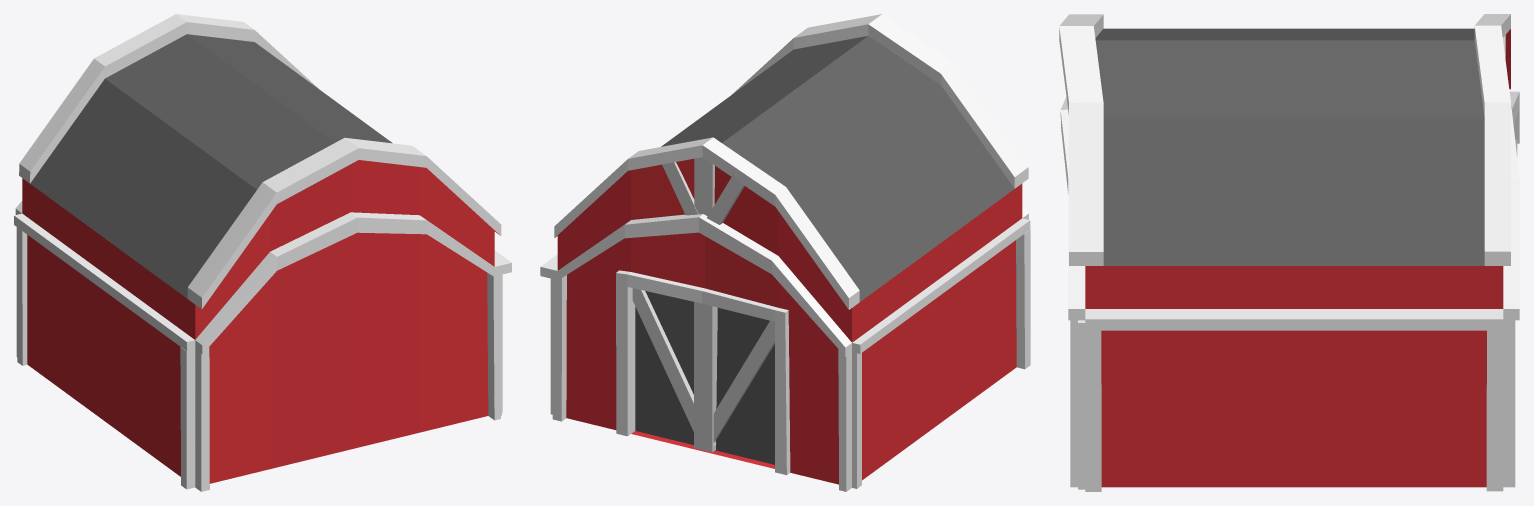
File: boerderij.fbx
The picture shows the model from 3 angles, left to right: view 1: azimuth 30°, elevation 25°; view 2: azimuth 150°, elevation 25°; view 3: azimuth 270°, elevation 25°; orthographic projection. The views are drawn at different scales.
Parts seen in each view (by area): view 1: Plane.002, Plane.006, Plane.001, Plane.003, Plane.004; view 2: Plane.002, Plane.006, Plane.003, Plane.001, Plane.004, Plane.005, Cube.003, Cube.001, Cube.002, Cube.004, Cube.006, Cube.005; view 3: Plane.006, Plane.002, Plane.003, Plane.001, Plane.004.
Boxes of the visible parts, box(x1,y1,x2,y2) form: Plane.002: box(14, 213, 488, 487); Plane.006: box(30, 34, 392, 298); Plane.001: box(22, 160, 499, 339); Plane.003: box(14, 201, 511, 491); Plane.004: box(19, 14, 501, 309); Plane.002: box(566, 218, 1029, 484); Plane.006: box(661, 36, 1014, 301); Plane.003: box(540, 206, 1030, 491); Plane.001: box(555, 159, 1022, 468); Plane.004: box(554, 14, 1028, 309); Plane.005: box(635, 291, 774, 464); Cube.003: box(694, 302, 717, 452); Cube.001: box(632, 288, 716, 445); Cube.002: box(713, 320, 774, 441); Cube.004: box(694, 157, 714, 216); Cube.006: box(662, 162, 698, 215); Cube.005: box(707, 173, 744, 224); Plane.006: box(1095, 28, 1484, 265); Plane.002: box(1078, 139, 1519, 487); Plane.003: box(1060, 91, 1519, 491); Plane.001: box(1085, 29, 1510, 308); Plane.004: box(1059, 14, 1510, 265).
Size of the model in its own units: 4805 by 4381 by 4873.
